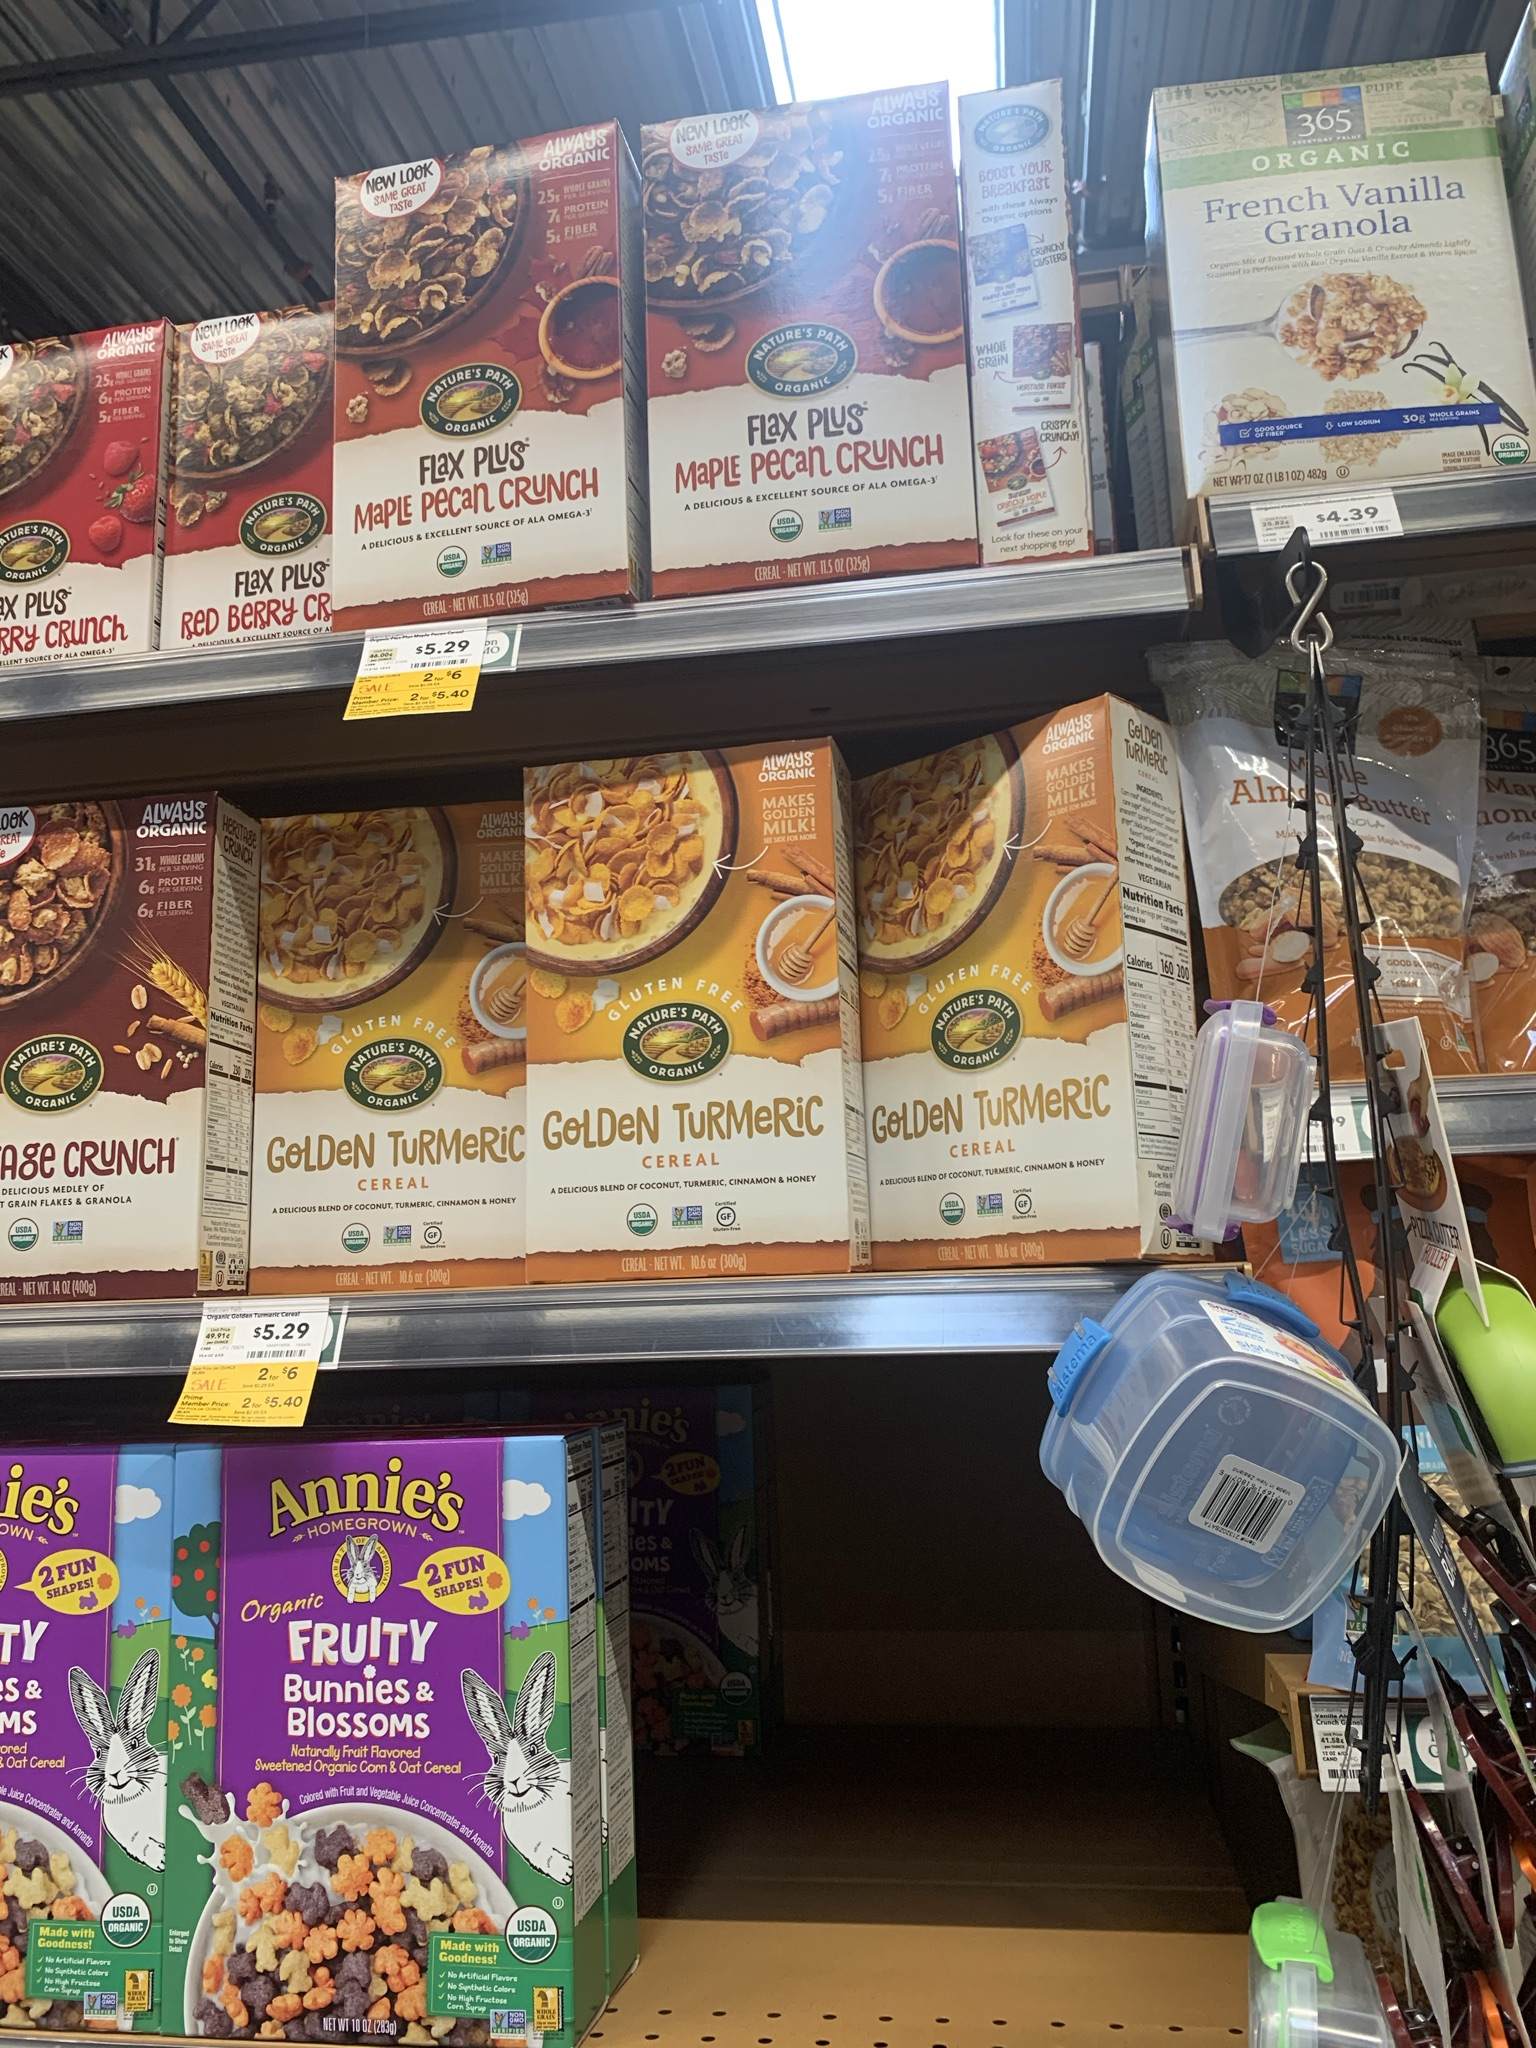box: (252, 1461, 561, 2046), (663, 132, 958, 569), (1183, 94, 1510, 472), (561, 780, 815, 1243), (895, 776, 1134, 1259), (360, 181, 611, 601), (289, 826, 516, 1287), (2, 813, 221, 1285), (2, 1472, 168, 2017), (2, 332, 153, 648), (190, 331, 324, 639)
